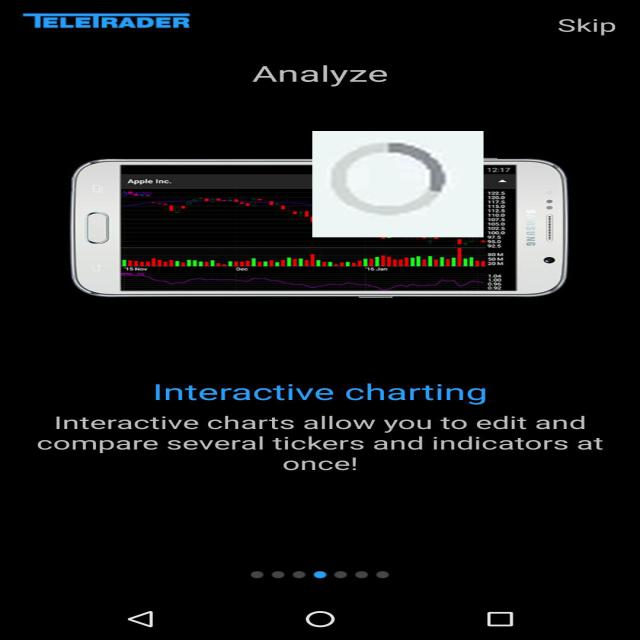misdirection: (312, 131, 484, 237)
